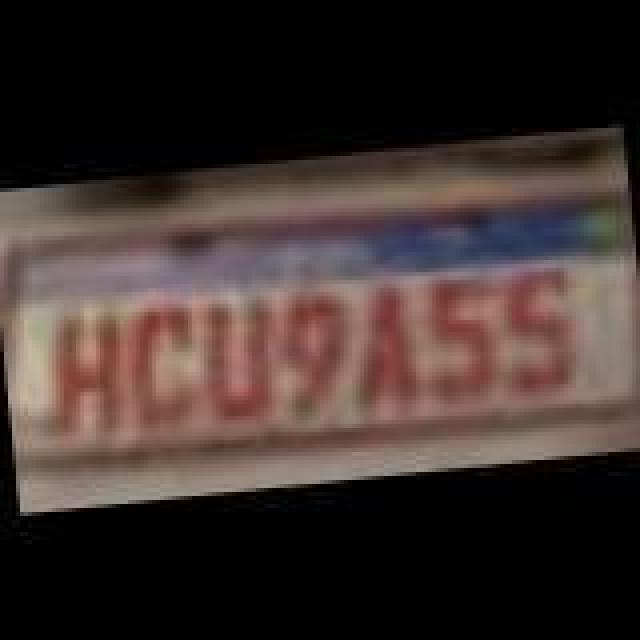1: (350, 278, 418, 410)
5: (422, 268, 506, 404), (502, 260, 586, 396)
9: (270, 284, 354, 420)
A: (348, 278, 420, 410)
C: (128, 296, 208, 432)
H: (44, 298, 132, 438)
U: (194, 282, 286, 422)
